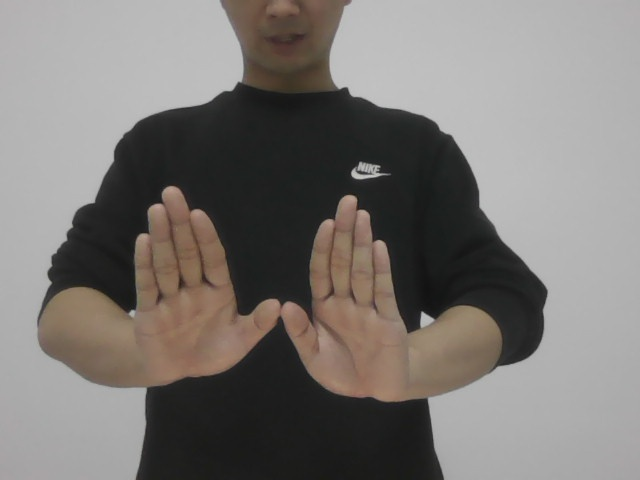door: (120, 181, 421, 402)
